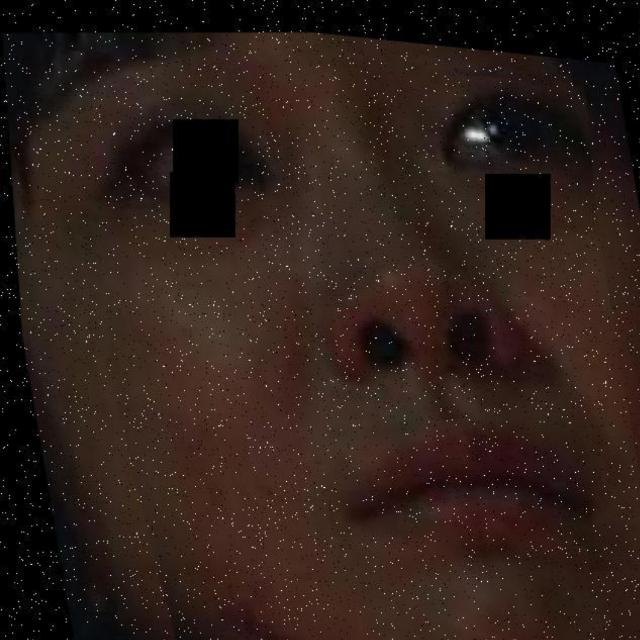Sad: (100, 32, 640, 640)
